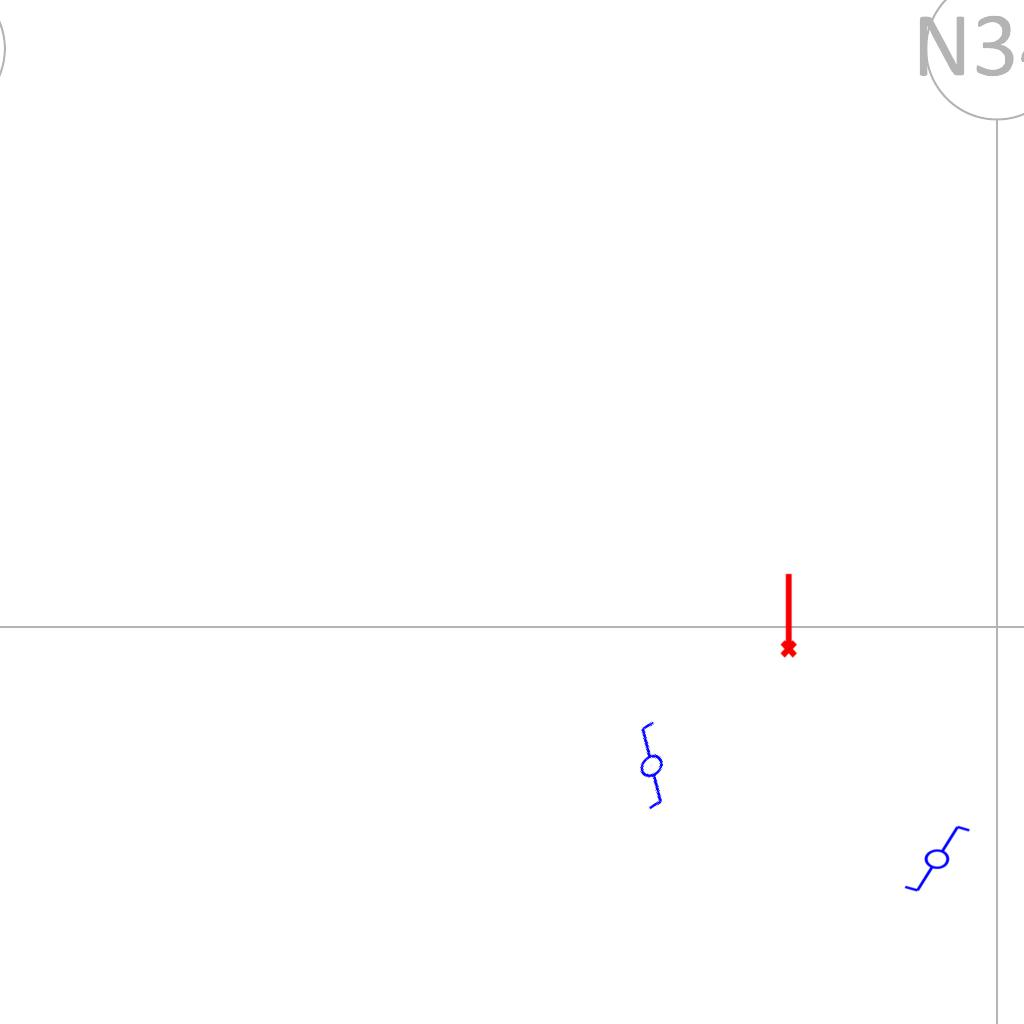ASR_Ansaugoeffnung: (776, 571, 799, 659)
Wechselschalter: (595, 714, 701, 822), (894, 822, 972, 894)
